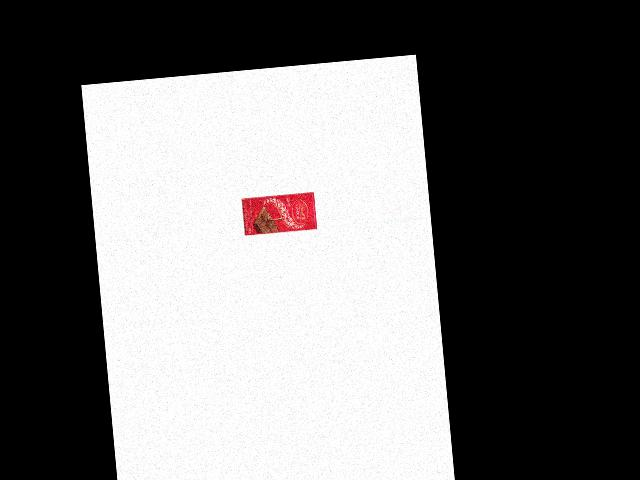chocolate: (242, 190, 317, 239)
